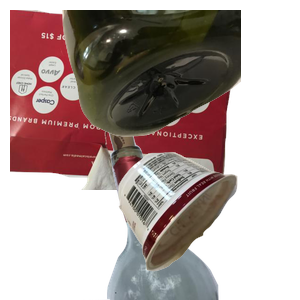glass: (83, 120, 294, 300)
paper: (10, 10, 238, 190)
plastic: (60, 10, 300, 139)
trash: (116, 149, 300, 300)
